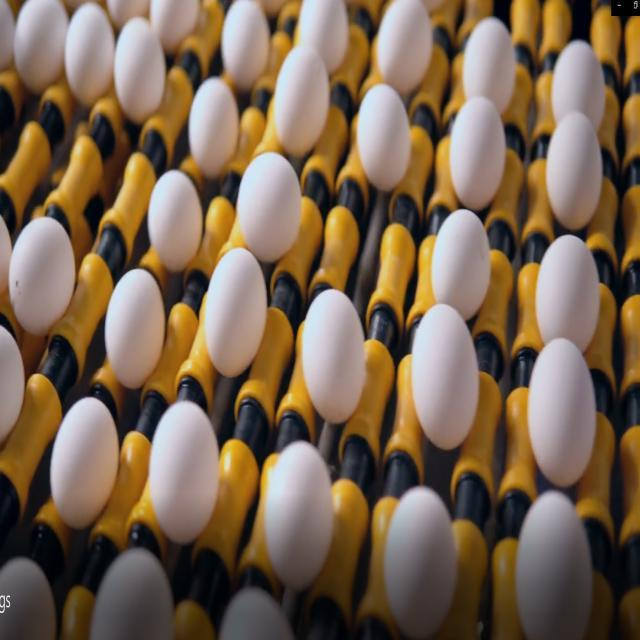Egg: (512, 484, 602, 640), (148, 396, 228, 552), (412, 302, 485, 468), (264, 435, 339, 587), (528, 333, 603, 484), (296, 278, 372, 426), (44, 388, 124, 528), (386, 476, 458, 629), (198, 243, 274, 387), (532, 234, 614, 367), (98, 258, 172, 390), (9, 202, 79, 340), (237, 144, 314, 263), (428, 204, 501, 324), (94, 541, 180, 640), (544, 113, 607, 241), (448, 95, 514, 209), (268, 48, 340, 148), (138, 165, 204, 272), (354, 82, 414, 196), (114, 11, 170, 131), (549, 25, 610, 134), (462, 11, 524, 118), (184, 70, 244, 178), (376, 1, 439, 95), (220, 576, 299, 640), (66, 6, 115, 105), (217, 4, 273, 84)
